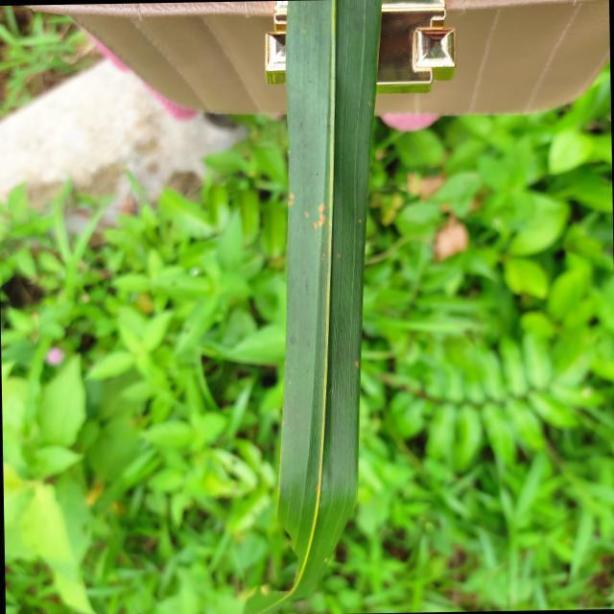Boron: (277, 0, 382, 614)
